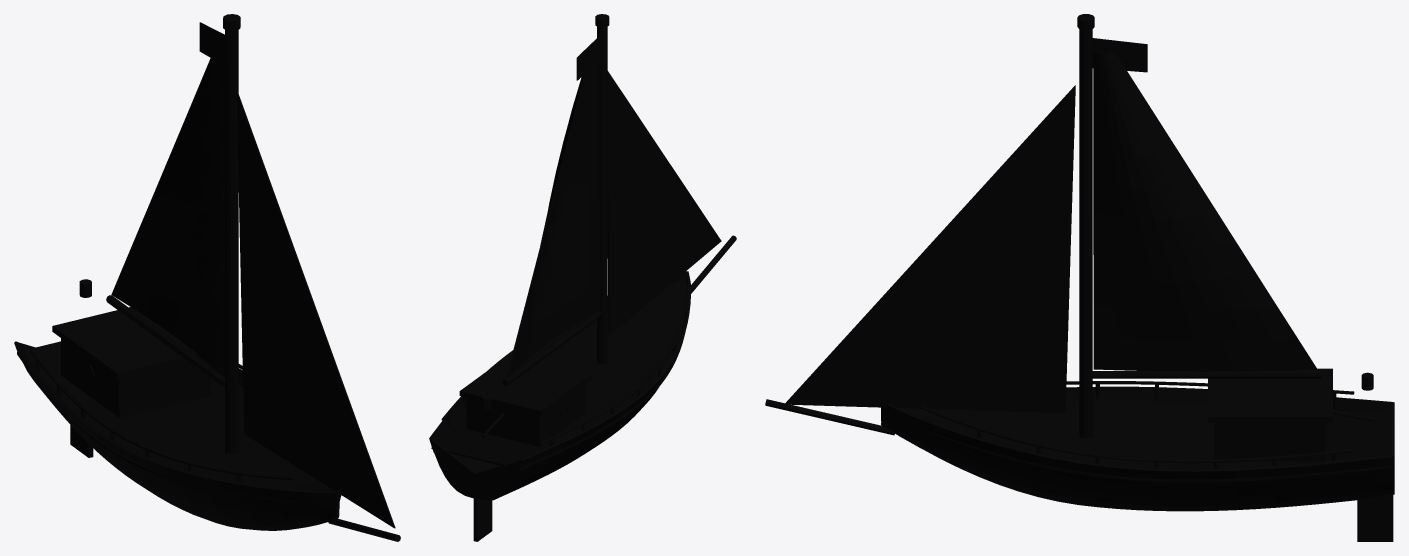
Rendered from tidebreakers_coastal_sloop.three-web-atlas.glb.
3 views of the same model, side by side, from view 1: azimuth 30°, elevation 25°; view 2: azimuth 150°, elevation 25°; view 3: azimuth 270°, elevation 25° (orthographic). The views are drawn at different scales.
Parts seen in each view (by area): view 1: tidebreakers_coastal_sloop_mesh; view 2: tidebreakers_coastal_sloop_mesh; view 3: tidebreakers_coastal_sloop_mesh.
Part boxes in pixels (x1=…): tidebreakers_coastal_sloop_mesh: x1=14, y1=14, x2=400, y2=541; tidebreakers_coastal_sloop_mesh: x1=429, y1=14, x2=736, y2=541; tidebreakers_coastal_sloop_mesh: x1=765, y1=14, x2=1394, y2=541.
Size of the model in its own units: 3.87 by 11.28 by 12.3.
1 material, 1 textured.
